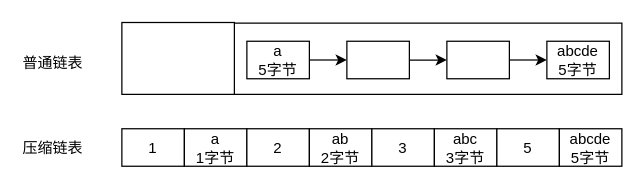
This 644x188 diagram has some shape labels left out. The box of each missing label's shape, as (x1, y1, x2, y2) in pixels:
ab 5字节: (346, 40, 409, 79)
abc 5字节: (446, 40, 509, 79)
data length 20: (121, 21, 234, 94)
